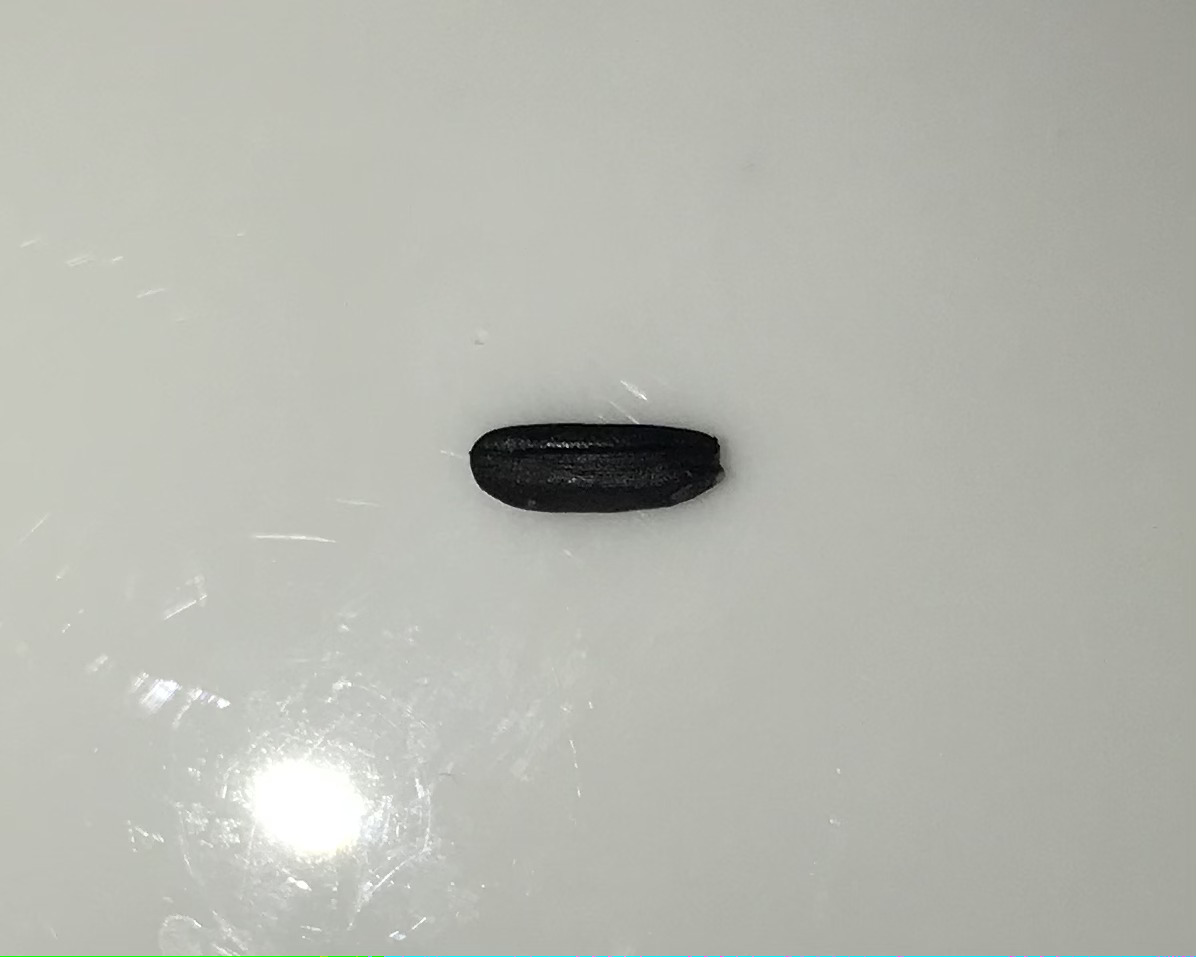Gao lut: (461, 420, 730, 517)
